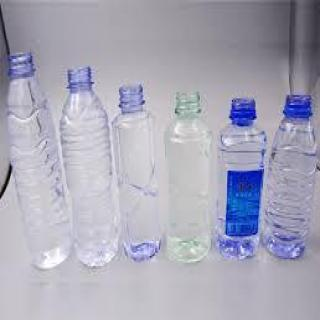Plastic-bottle: (7, 50, 74, 275), (59, 65, 123, 272), (260, 95, 319, 264), (113, 82, 166, 266), (218, 95, 271, 264), (166, 88, 216, 267)
